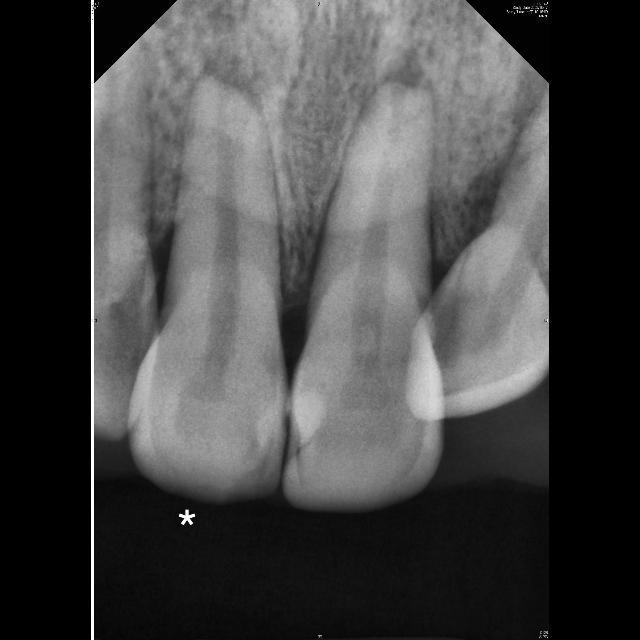test-segment: (127, 78, 288, 505)
